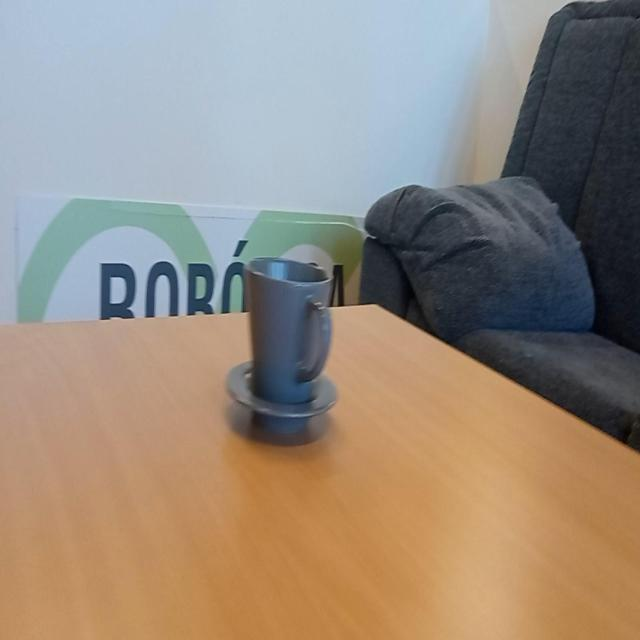cup: (222, 250, 344, 438)
